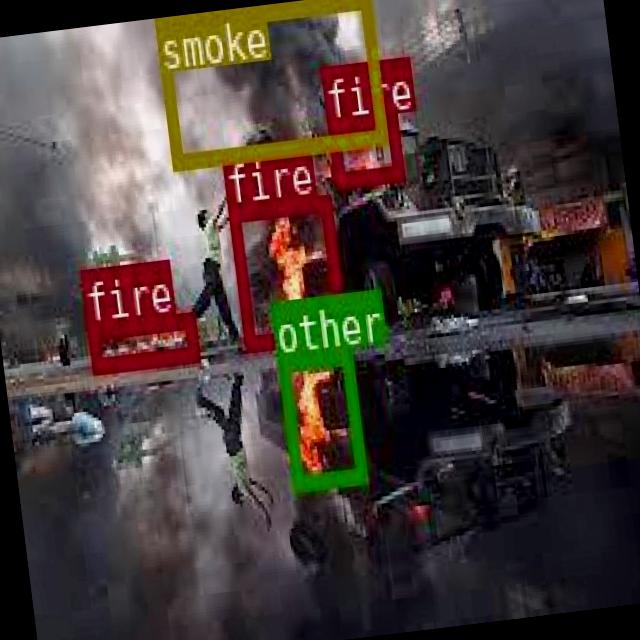fire: (225, 192, 345, 348), (84, 310, 198, 372), (325, 113, 402, 184)
smoke: (151, 0, 383, 165)
